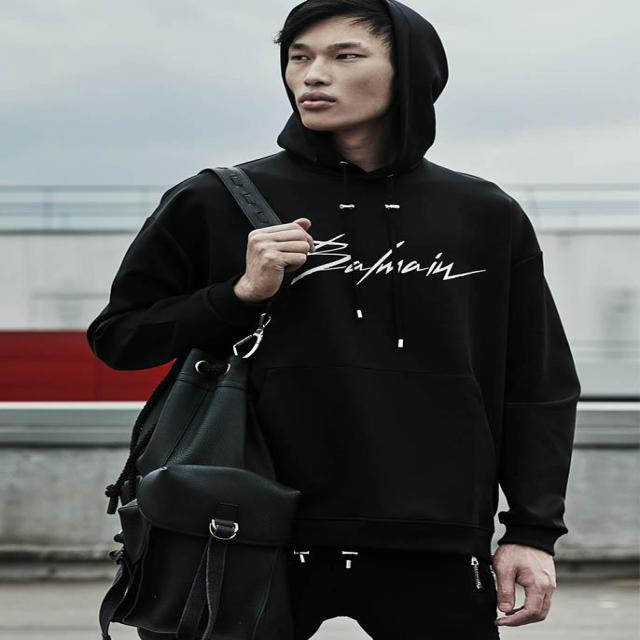human: (97, 0, 572, 638)
